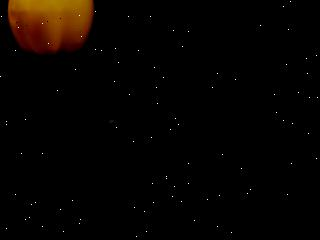Capsicum: (6, 0, 97, 60)
